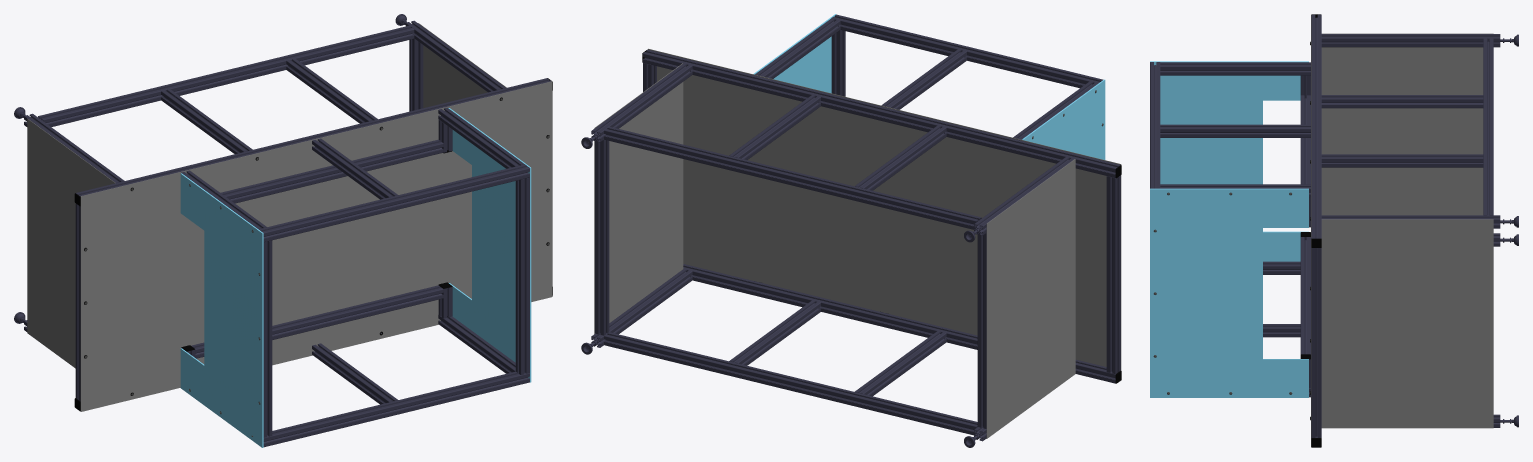
Rendered from crate_machine_flat.obj.
3 renders of one model, left to right at view 1: azimuth 30°, elevation 25°; view 2: azimuth 150°, elevation 25°; view 3: azimuth 270°, elevation 25°, orthographic. The views are drawn at different scales.
Parts seen in each view (by area): view 1: empty_2_Mesh; view 2: empty_2_Mesh; view 3: empty_2_Mesh.
Boxes of the visible parts, x1,y1,x2,y2 form: empty_2_Mesh: [14, 14, 552, 447]; empty_2_Mesh: [581, 14, 1121, 447]; empty_2_Mesh: [1150, 14, 1518, 447].
Bounding box in the file's own units: 23.08 × 10.07 × 16.
